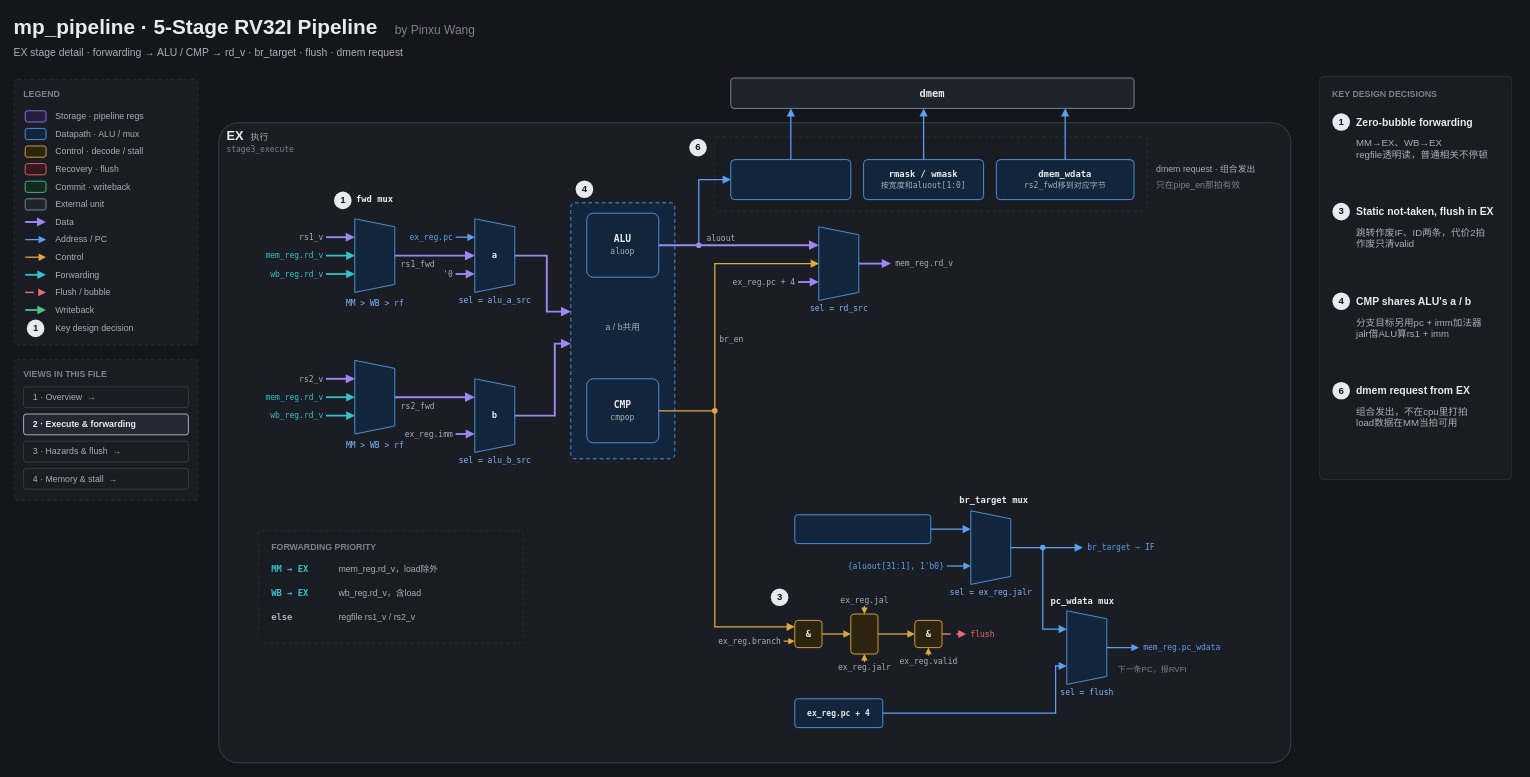
This 1530x777 diagram has some shape labels left out. Each missing label, with the centre of its shape:
dmem_addr {aluout[31:2], 2'b00}: (790,179)
ex_reg.pc + ex_reg.imm: (862,529)
OR: (864,633)
rd_v: (838,263)
